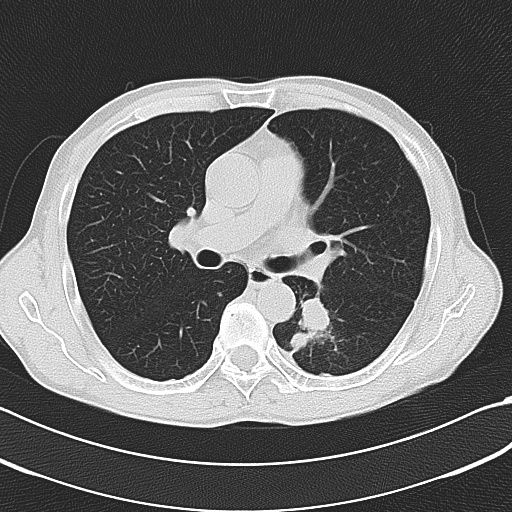cancer: (291, 299, 332, 354)
non-cancer: (249, 227, 335, 283), (199, 141, 263, 206), (103, 167, 173, 222)
